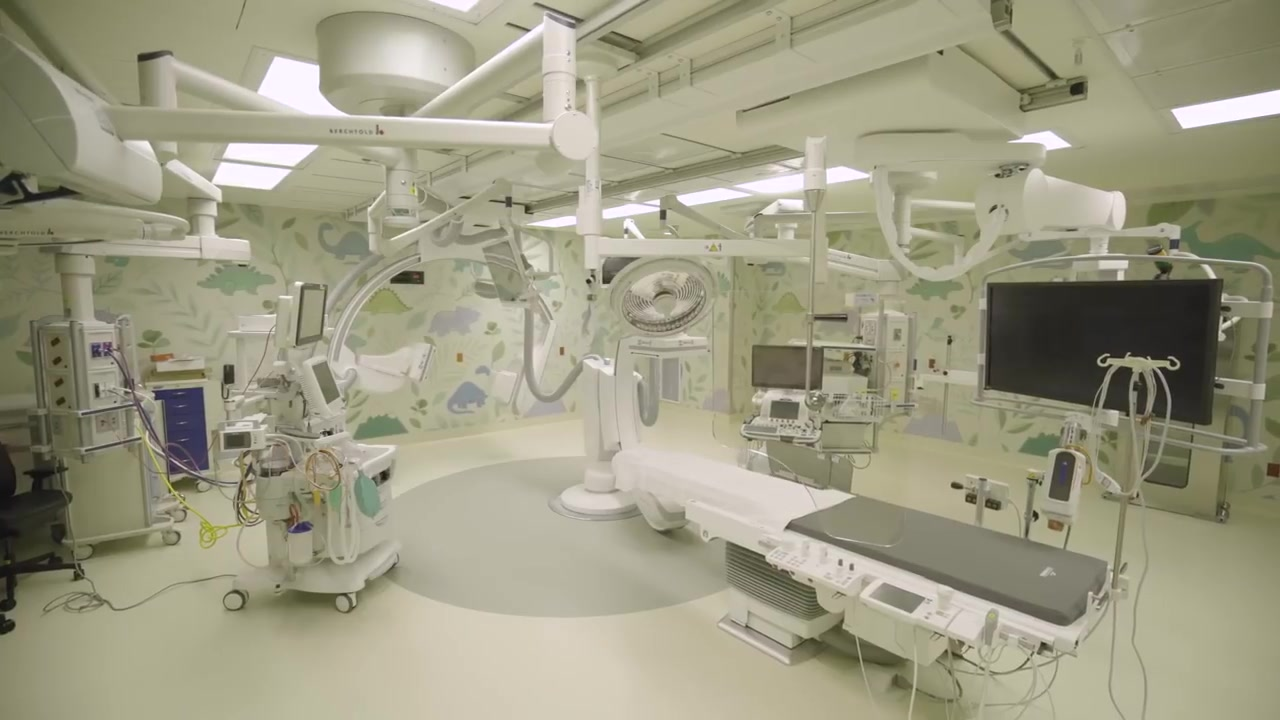bedside_monitor: (981, 278, 1220, 431), (478, 240, 537, 310), (296, 357, 347, 424), (747, 348, 826, 388), (296, 282, 333, 349), (768, 401, 802, 420)
chair: (1, 437, 86, 609)
handle: (371, 515, 392, 529), (175, 434, 191, 444), (174, 419, 190, 426), (172, 390, 187, 397), (180, 457, 194, 464), (172, 403, 188, 409)
iv_pole: (1095, 350, 1182, 564)
medical_drawer: (148, 382, 220, 483), (313, 492, 403, 561)
operating_bed: (596, 438, 1119, 706)
surgical_light: (616, 262, 723, 338)
ventilator: (237, 422, 415, 612)
